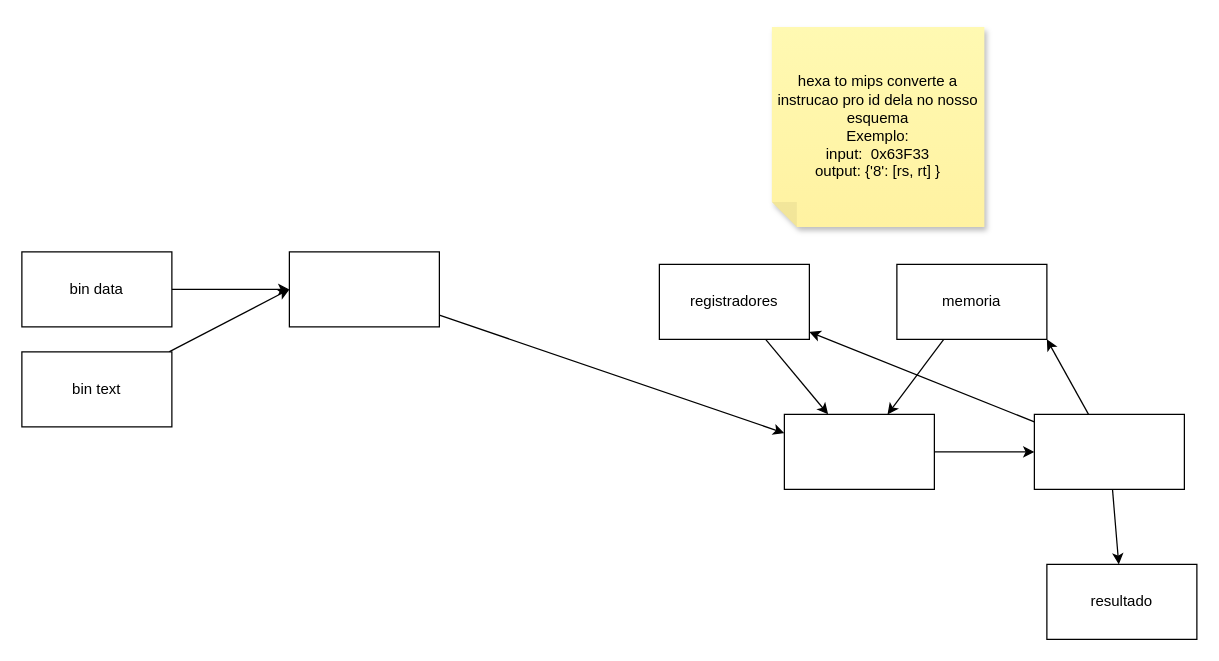
Image size: 1219x661. Some labels were removed from this diagram. Each missing label, with the centre of its shape:
"emulador" goes at [858,451].
"hexa to mips" goes at [1108,451].
"main" goes at [363,289].
